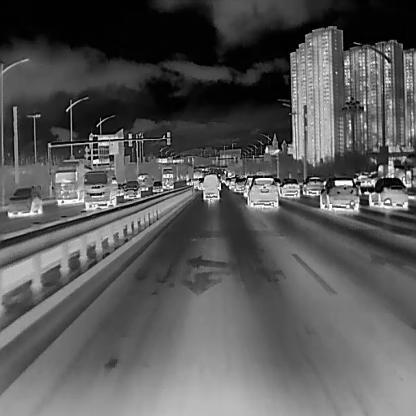car: (54, 159, 93, 206), (319, 175, 358, 209), (82, 170, 116, 207), (368, 177, 408, 207), (6, 185, 41, 216), (246, 174, 277, 207), (279, 177, 299, 198), (202, 175, 219, 199), (301, 175, 320, 195), (122, 180, 140, 198), (160, 167, 173, 189), (137, 173, 148, 191), (243, 177, 253, 196), (151, 180, 162, 192), (235, 176, 243, 192), (229, 178, 235, 189)
